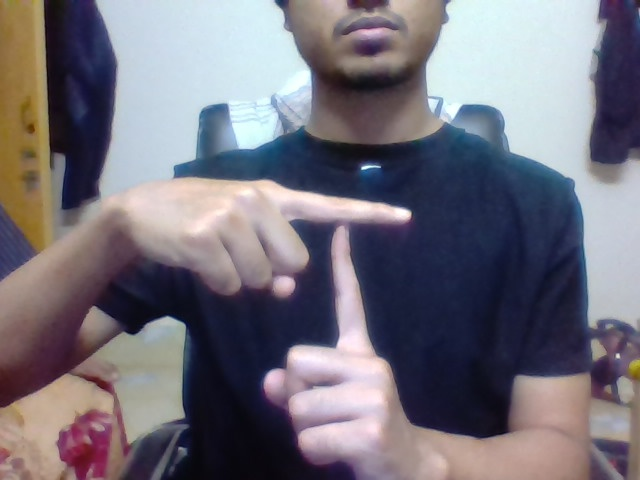T: (314, 185, 430, 330)
